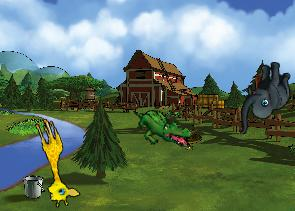crocodile: (131, 108, 193, 148)
elephant: (233, 60, 294, 134)
giraffe: (23, 115, 82, 210)
